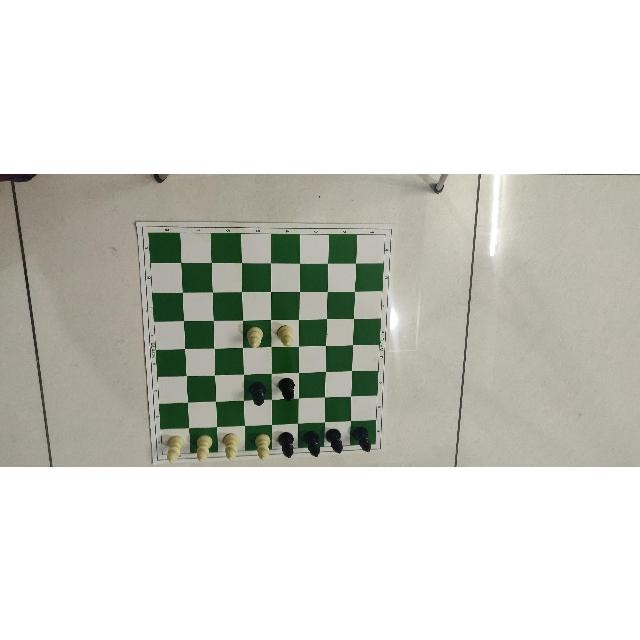black-bishop: (350, 425, 378, 453), (325, 424, 347, 455), (248, 376, 268, 410), (274, 376, 298, 404), (303, 428, 324, 460), (276, 430, 298, 460)
white-bishop: (193, 430, 215, 462), (252, 430, 272, 464), (270, 322, 297, 346), (221, 433, 244, 461), (244, 322, 265, 350), (162, 434, 183, 462)
